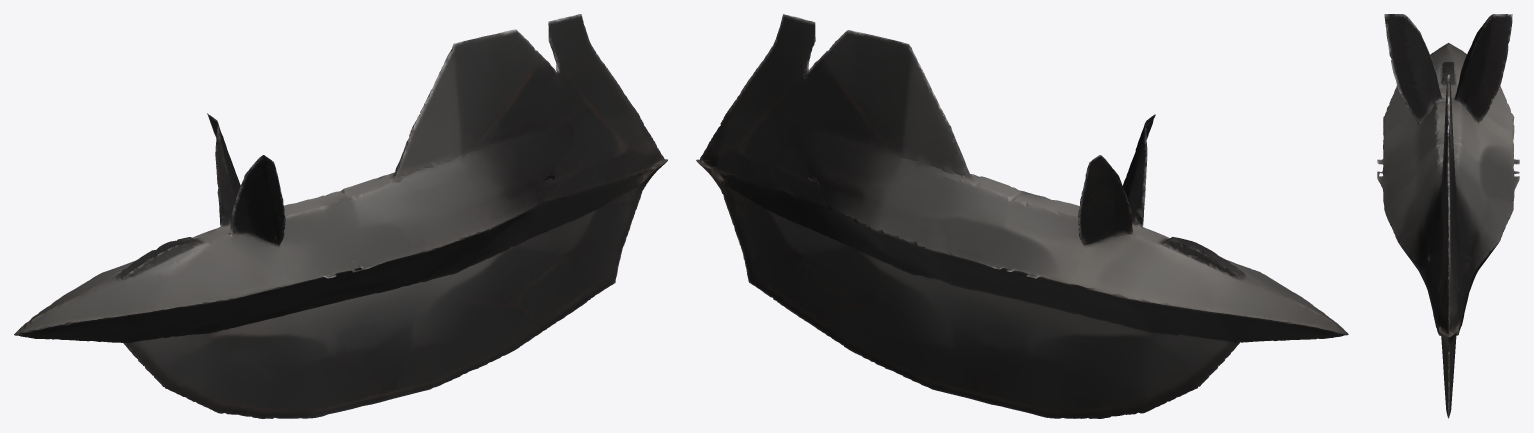
Rendered from phantom_hull.glb.
3 renders of one model, left to right at view 1: azimuth 30°, elevation 25°; view 2: azimuth 150°, elevation 25°; view 3: azimuth 270°, elevation 25°, orthographic. The views are drawn at different scales.
Parts seen in each view (by area): view 1: phantom_hull; view 2: phantom_hull; view 3: phantom_hull.
Boxes of the visible parts, x1,y1,x2,y2 form: phantom_hull: [14, 14, 667, 418]; phantom_hull: [696, 14, 1348, 418]; phantom_hull: [1377, 14, 1519, 418].
Size of the model in its own units: 1.89 by 0.9424 by 0.3706.
Materials: 1 (1 with a texture image).
